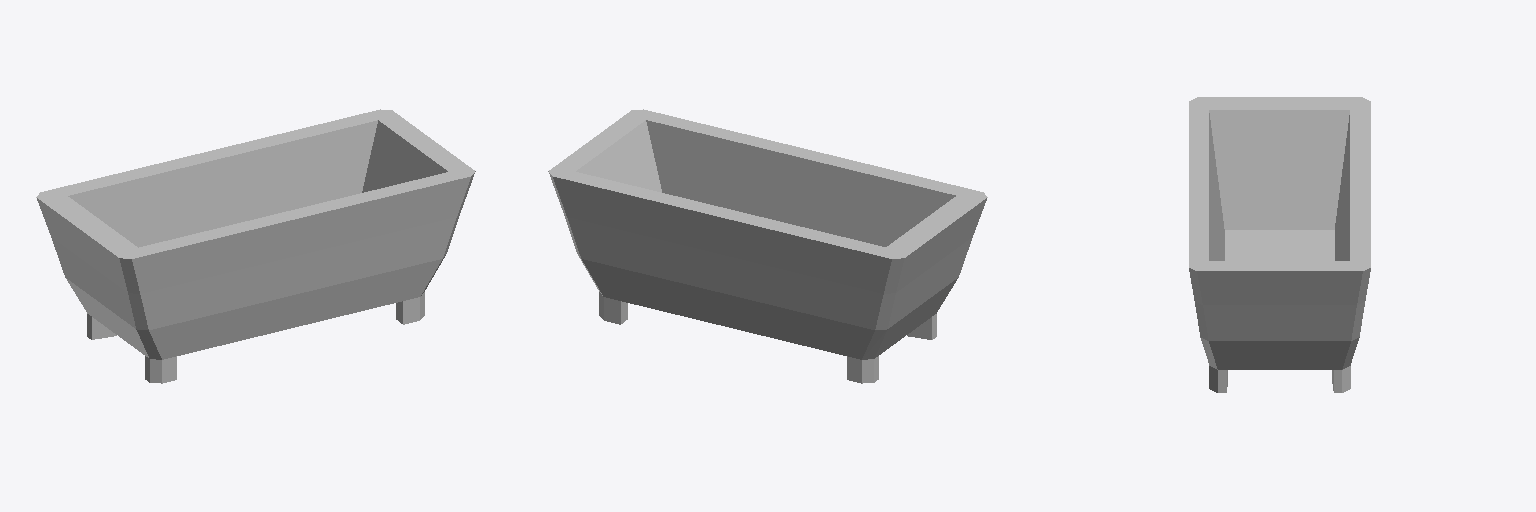
Rendered from Bathtub_01.obj.
3 renders of one model, left to right at view 1: azimuth 30°, elevation 25°; view 2: azimuth 150°, elevation 25°; view 3: azimuth 270°, elevation 25°, orthographic.
Parts seen in each view (by area): view 1: BathingTub; view 2: BathingTub; view 3: BathingTub.
Part boxes in pixels (bbox=[...]): BathingTub: bbox=[36, 109, 475, 383]; BathingTub: bbox=[548, 109, 987, 383]; BathingTub: bbox=[1189, 97, 1370, 392].
Size of the model in its own units: 4.07 by 1.56 by 1.81.